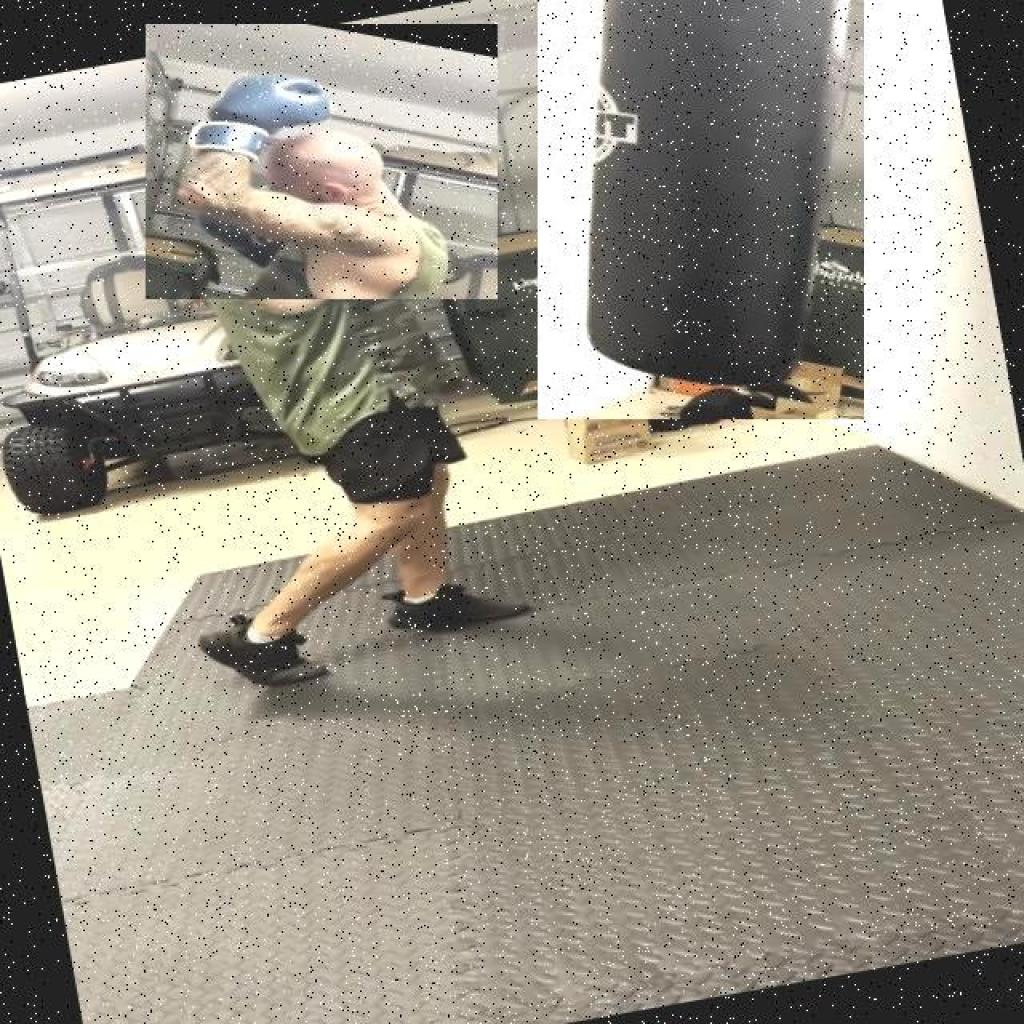bag: (538, 0, 863, 419)
uppercut: (146, 24, 498, 299)
